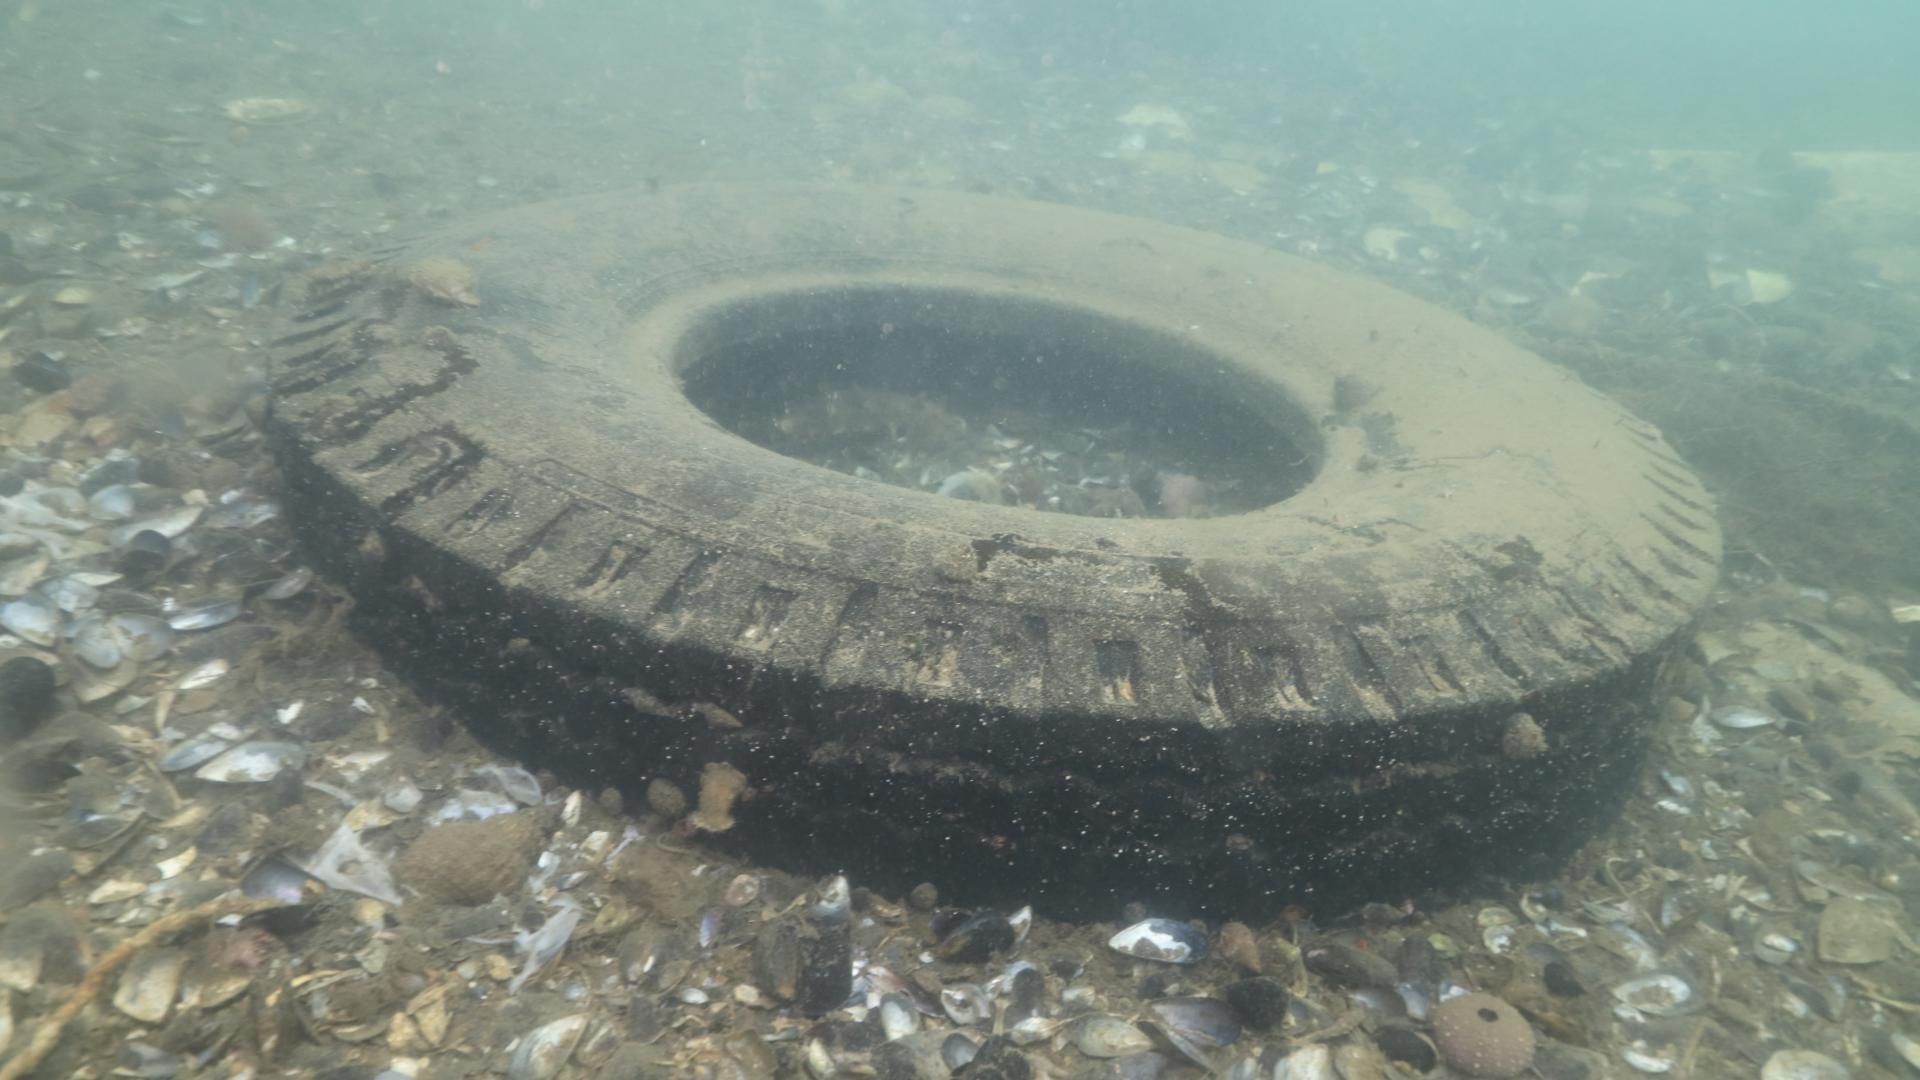tire: (274, 171, 1725, 913)
